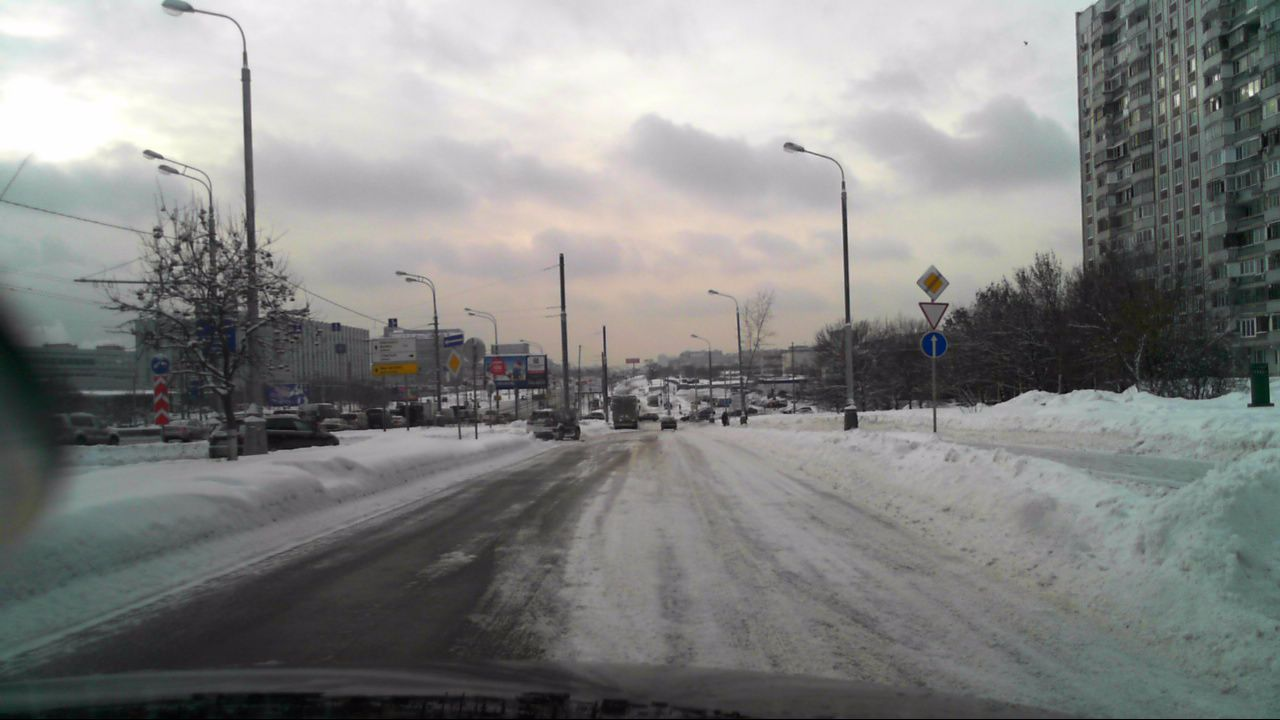main road: (915, 263, 949, 301)
